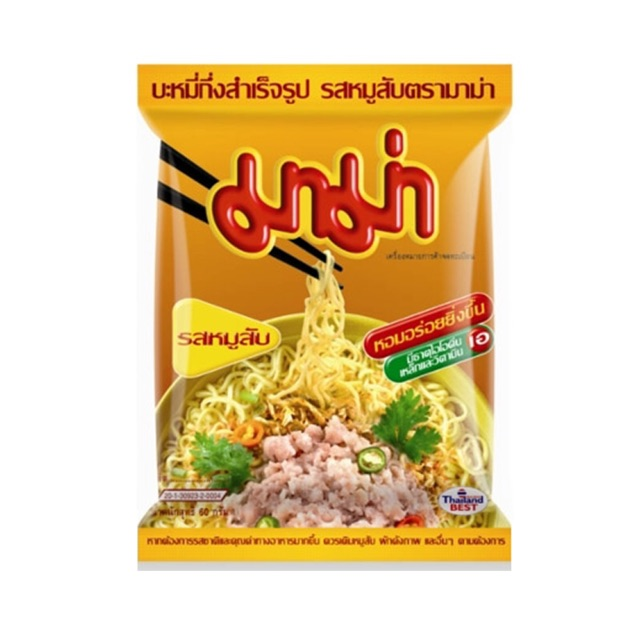Snack: (123, 58, 526, 580)
